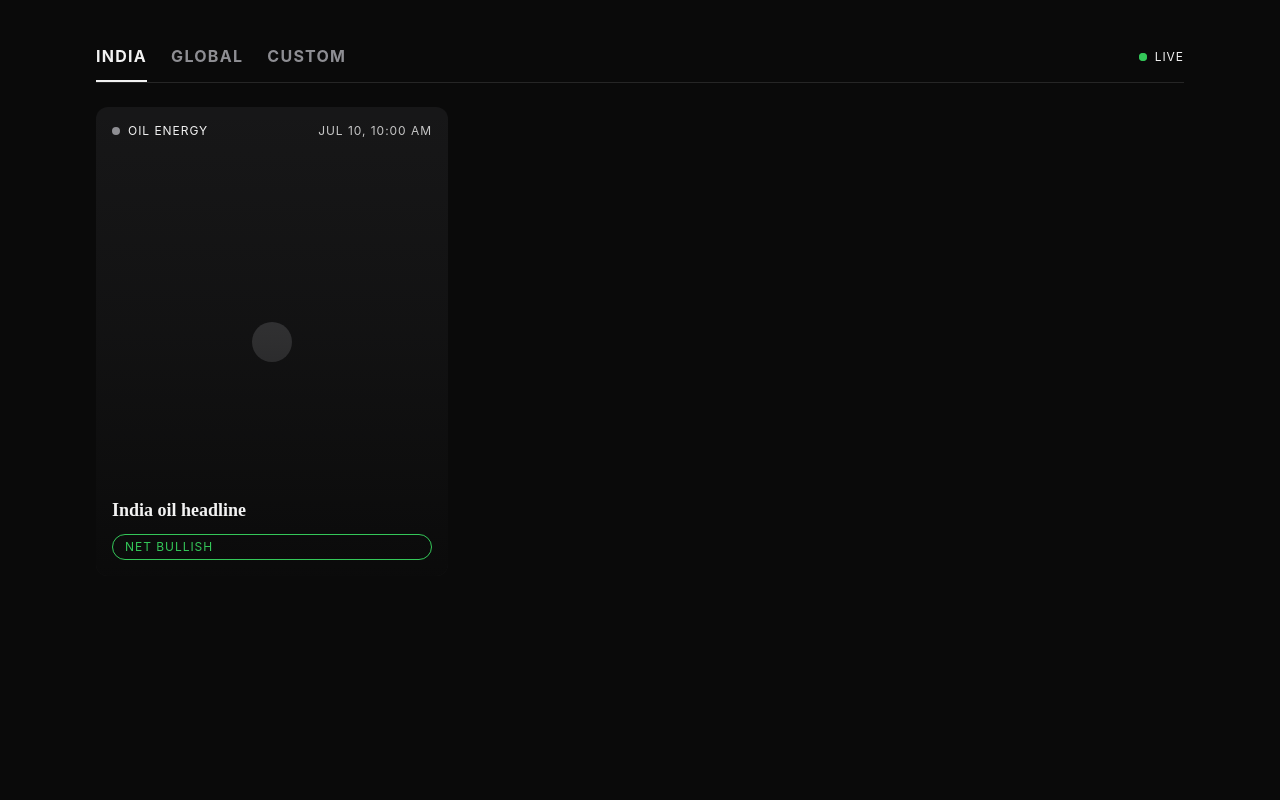
Feed › desktop: opens AlertDetail with the company breakdown when the grid card is clicked
Click the button "oil energy Jul 10, 10:00 AM India oil headline Net Bullish" at {"x": 272, "y": 342}, box [96,107,448,576]
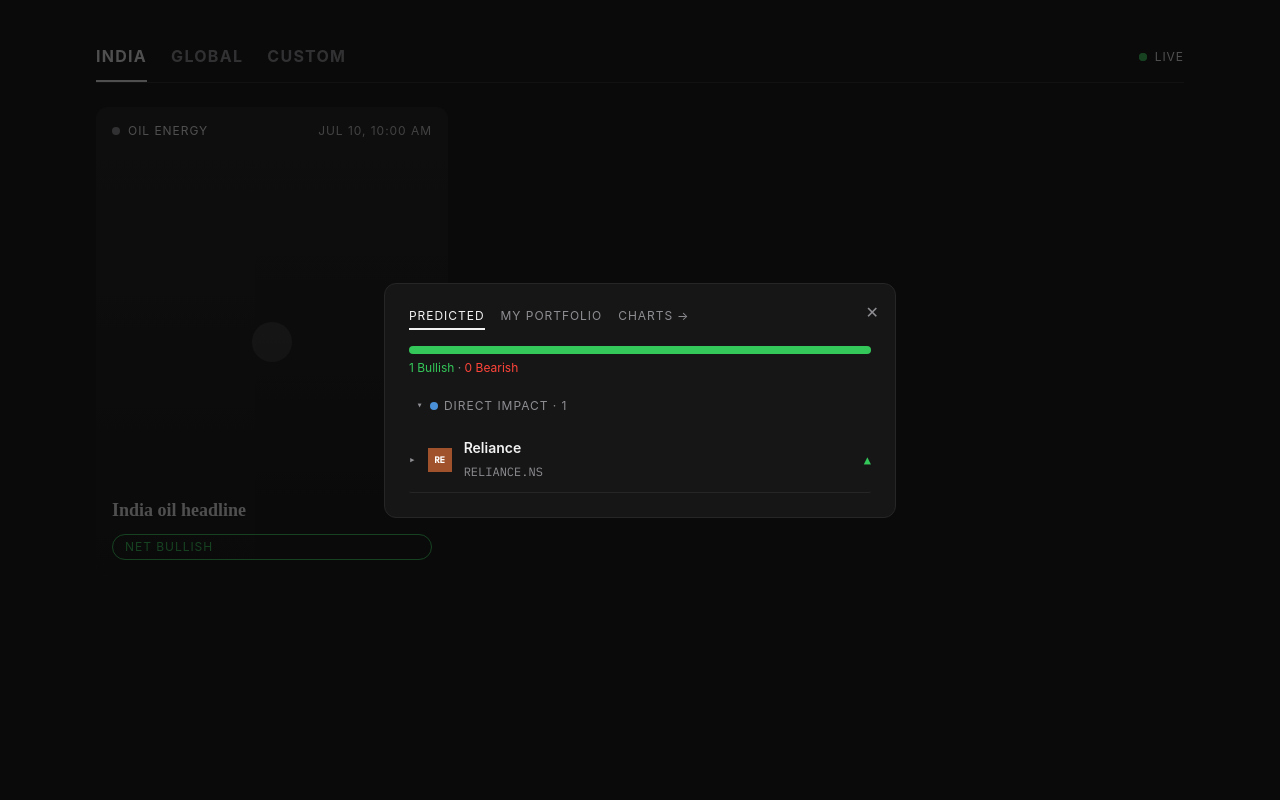
Result: the dialog is shown at [384,282,896,518]
